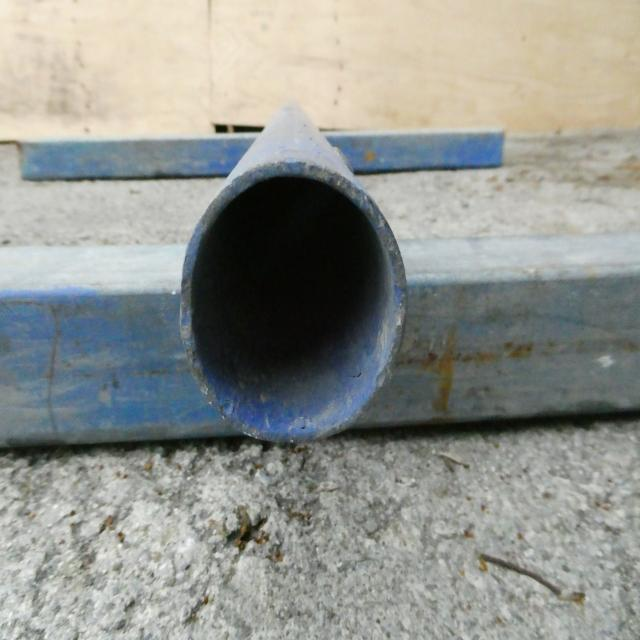pipe: (179, 161, 408, 444)
